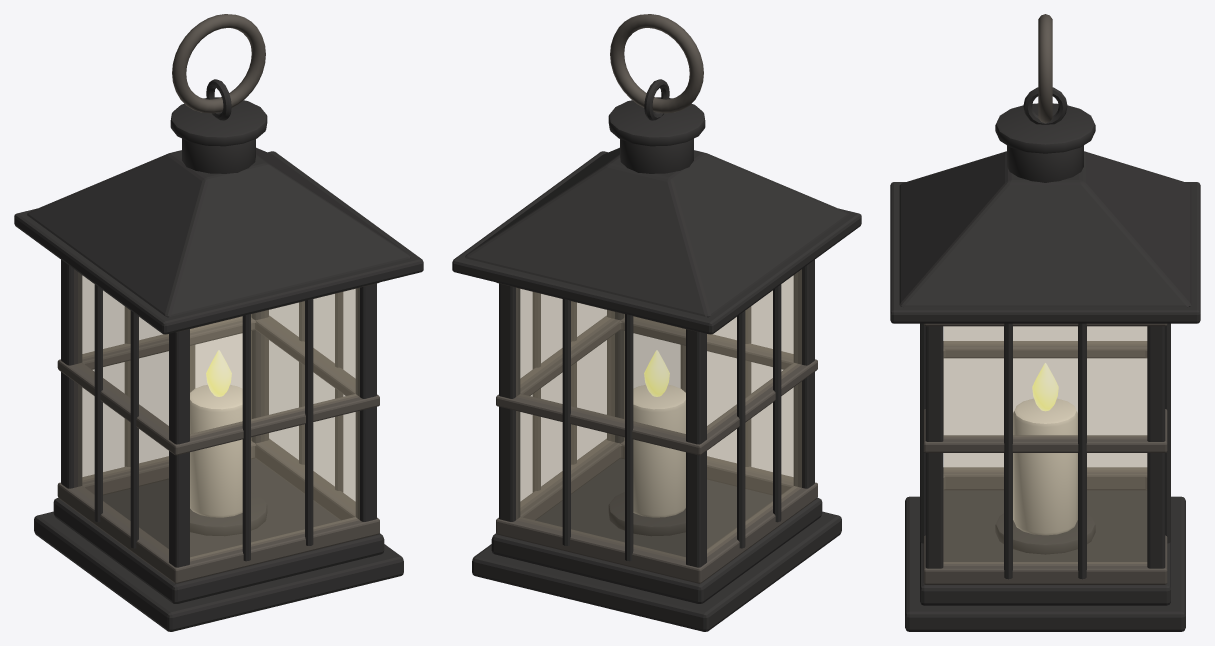
File: iron-lantern_final.glb
3 renders of one model, left to right at view 1: azimuth 30°, elevation 25°; view 2: azimuth 150°, elevation 25°; view 3: azimuth 270°, elevation 25°, orthographic. The views are drawn at different scales.
Parts seen in each view (by area): view 1: SM_Lantern_Glass, SM_Lantern_Roof, SM_Lantern_Base, SM_Lantern_Bands, SM_Lantern_Posts, SM_Lantern_CageBars, SM_Lantern_Candle, SM_Lantern_Cap, SM_Lantern_Ring, SM_Lantern_CandleDish, SM_Lantern_Flame, SM_Lantern_Eye; view 2: SM_Lantern_Glass, SM_Lantern_Roof, SM_Lantern_Base, SM_Lantern_Bands, SM_Lantern_Posts, SM_Lantern_CageBars, SM_Lantern_Candle, SM_Lantern_Cap, SM_Lantern_Ring, SM_Lantern_CandleDish, SM_Lantern_Flame, SM_Lantern_Eye; view 3: SM_Lantern_Roof, SM_Lantern_Glass, SM_Lantern_Base, SM_Lantern_Bands, SM_Lantern_Posts, SM_Lantern_Candle, SM_Lantern_CageBars, SM_Lantern_Cap, SM_Lantern_CandleDish, SM_Lantern_Ring, SM_Lantern_Flame, SM_Lantern_Eye.
Boxes of the visible parts, x1=… form: SM_Lantern_Glass: x1=74, y1=270, x2=359, y2=560; SM_Lantern_Roof: x1=14, y1=147, x2=423, y2=334; SM_Lantern_Base: x1=34, y1=458, x2=403, y2=631; SM_Lantern_Bands: x1=57, y1=282, x2=379, y2=583; SM_Lantern_Posts: x1=61, y1=260, x2=376, y2=567; SM_Lantern_CageBars: x1=94, y1=284, x2=343, y2=561; SM_Lantern_Candle: x1=190, y1=385, x2=242, y2=517; SM_Lantern_Cap: x1=170, y1=97, x2=267, y2=173; SM_Lantern_Ring: x1=172, y1=14, x2=265, y2=113; SM_Lantern_CandleDish: x1=190, y1=492, x2=267, y2=535; SM_Lantern_Flame: x1=206, y1=350, x2=231, y2=396; SM_Lantern_Eye: x1=206, y1=79, x2=231, y2=120; SM_Lantern_Glass: x1=516, y1=269, x2=801, y2=560; SM_Lantern_Roof: x1=452, y1=147, x2=861, y2=334; SM_Lantern_Base: x1=472, y1=458, x2=841, y2=631; SM_Lantern_Bands: x1=496, y1=282, x2=817, y2=583; SM_Lantern_Posts: x1=499, y1=260, x2=814, y2=567; SM_Lantern_CageBars: x1=532, y1=284, x2=781, y2=561; SM_Lantern_Candle: x1=633, y1=385, x2=685, y2=517; SM_Lantern_Cap: x1=608, y1=97, x2=705, y2=173; SM_Lantern_Ring: x1=610, y1=14, x2=703, y2=113; SM_Lantern_CandleDish: x1=608, y1=492, x2=685, y2=535; SM_Lantern_Flame: x1=644, y1=350, x2=669, y2=396; SM_Lantern_Eye: x1=644, y1=79, x2=669, y2=120; SM_Lantern_Roof: x1=890, y1=151, x2=1200, y2=323; SM_Lantern_Glass: x1=943, y1=326, x2=1147, y2=565; SM_Lantern_Base: x1=905, y1=490, x2=1185, y2=631; SM_Lantern_Bands: x1=923, y1=323, x2=1167, y2=584; SM_Lantern_Posts: x1=925, y1=326, x2=1165, y2=568; SM_Lantern_Candle: x1=1013, y1=398, x2=1077, y2=535; SM_Lantern_CageBars: x1=920, y1=323, x2=1170, y2=579; SM_Lantern_Cap: x1=995, y1=103, x2=1095, y2=182; SM_Lantern_CandleDish: x1=995, y1=513, x2=1095, y2=554; SM_Lantern_Ring: x1=1038, y1=14, x2=1052, y2=123; SM_Lantern_Flame: x1=1032, y1=363, x2=1058, y2=411; SM_Lantern_Eye: x1=1023, y1=87, x2=1067, y2=124.
Size of the model in its own units: 0.21 by 0.4345 by 0.21.
